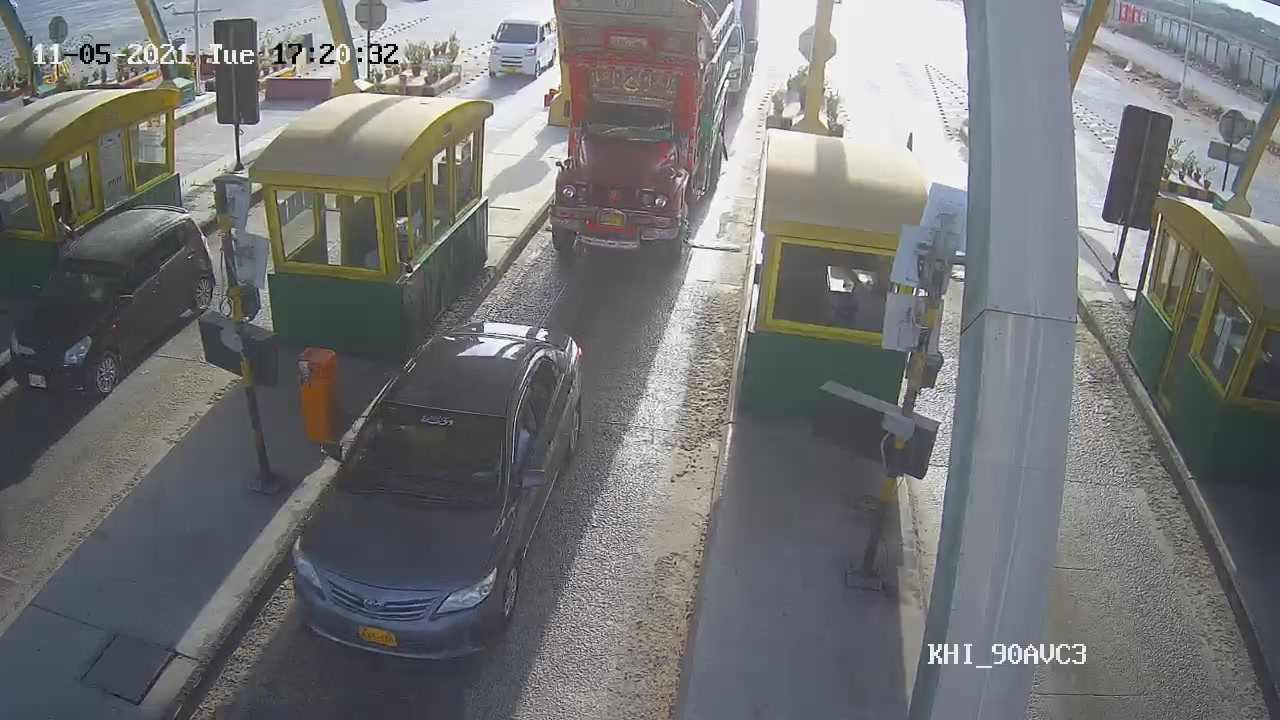F5: (548, 1, 738, 268)
